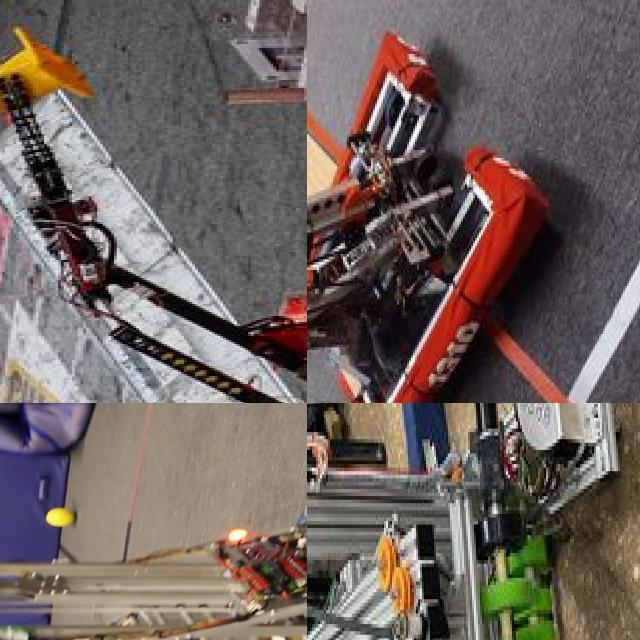FRC-Robots: (0, 26, 307, 403), (307, 32, 575, 403), (307, 403, 640, 640), (0, 450, 307, 640)
